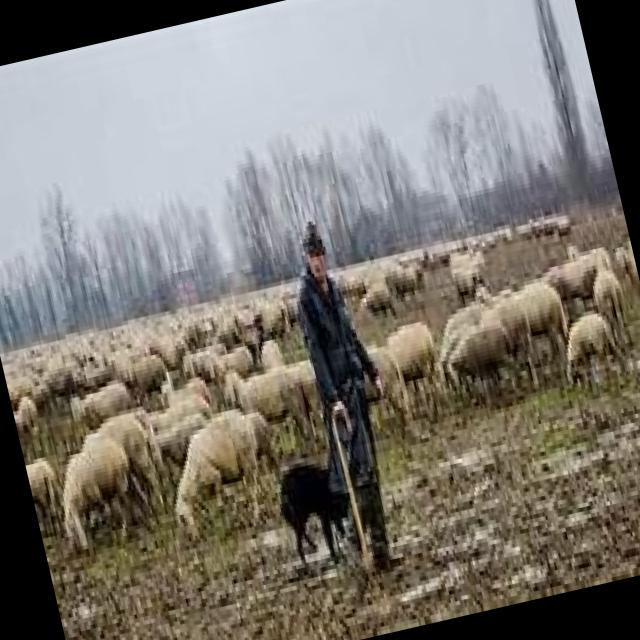animal: (154, 402, 292, 543), (46, 431, 146, 556), (268, 449, 362, 574), (552, 306, 625, 392), (23, 452, 68, 538)
